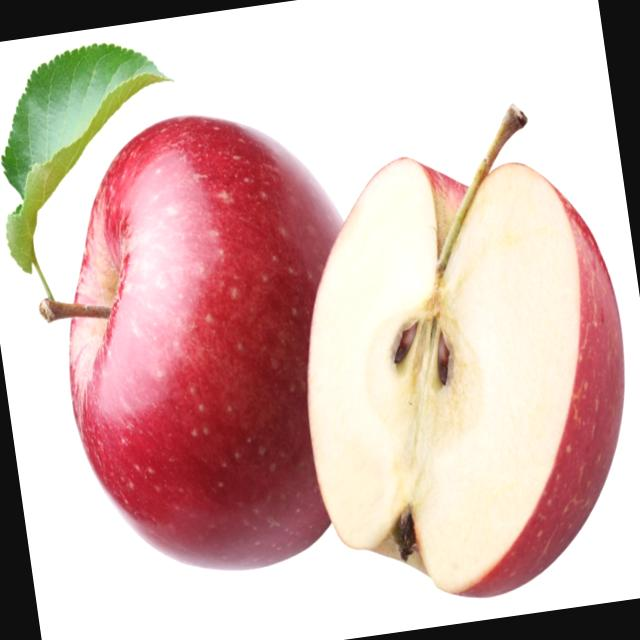apple: (13, 76, 409, 622)
